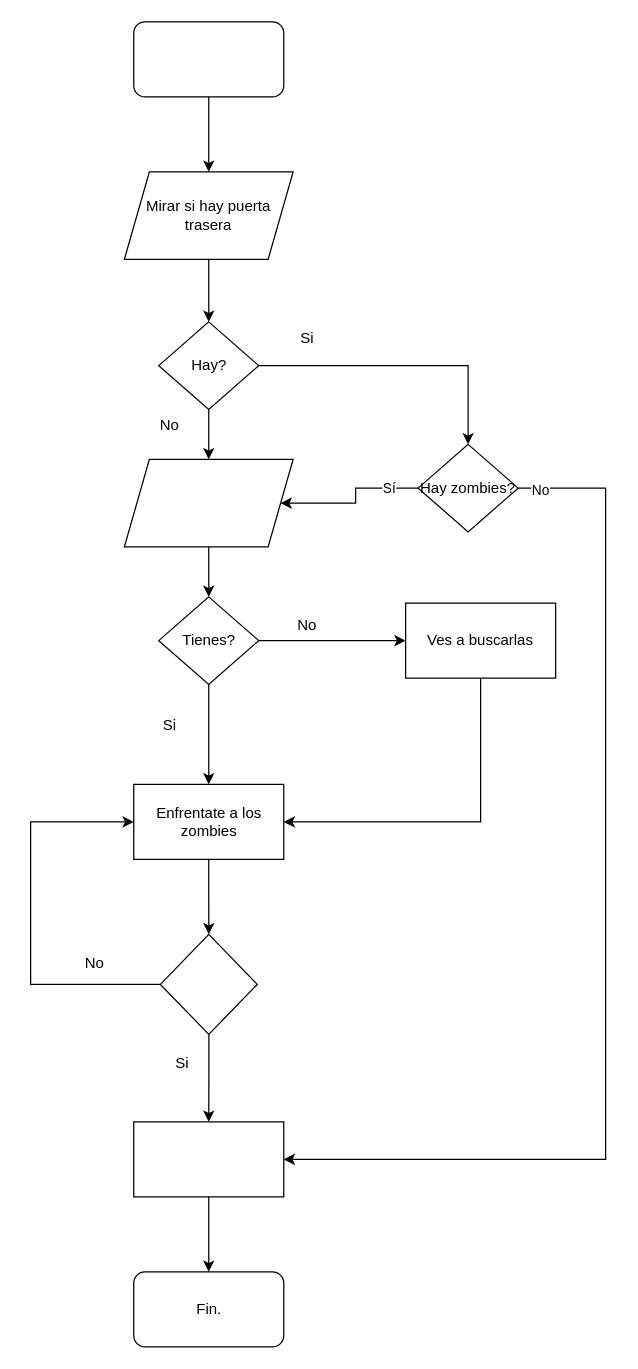
The diagram is 638 pixels wide and 1369 high, and some of its shapes have lost their labels. Each missing label, with the centre of its shape:
"Coger tus armas" belongs at point 208,502.
"Has acabado?" belongs at point 208,983.
"Inicio" belongs at point 208,59.
"Sal del almacen" belongs at point 208,1159.
